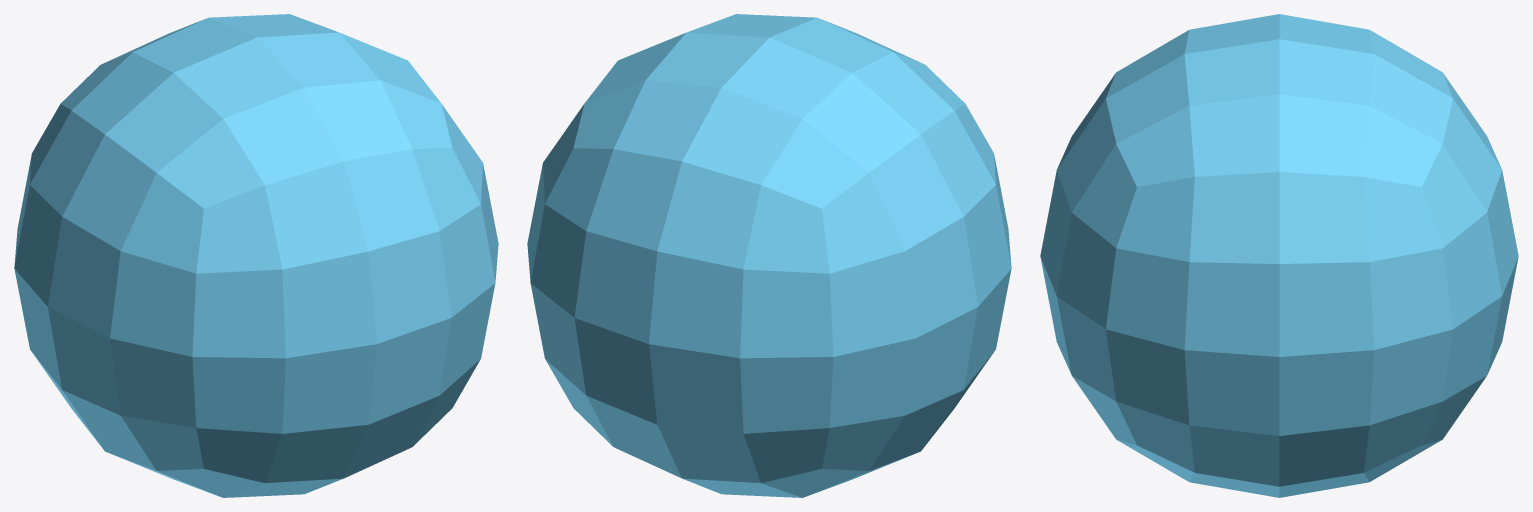
The model's file is SM_MOLECULA_ELECTRON_LVL2.fbx.
3 renders of one model, left to right at view 1: azimuth 30°, elevation 25°; view 2: azimuth 150°, elevation 25°; view 3: azimuth 270°, elevation 25°, orthographic.
Visible parts, largest first — view 1: Cube.002; view 2: Cube.002; view 3: Cube.002.
Part boxes in pixels (x1,y1,x2,y2): Cube.002: (14,14,498,497); Cube.002: (527,14,1011,497); Cube.002: (1040,14,1518,497).
Size of the model in its own units: 0.2001 by 0.2001 by 0.2001.
